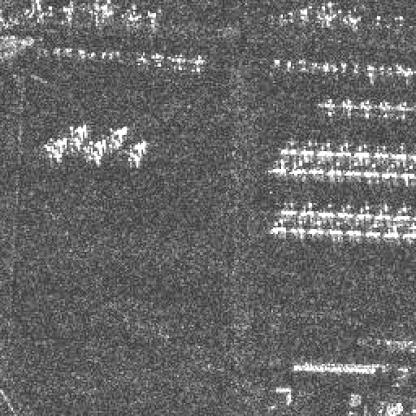airplane: (315, 96, 338, 120), (188, 52, 206, 73), (166, 52, 185, 70), (338, 99, 356, 117), (304, 219, 323, 236), (372, 145, 392, 161), (396, 99, 413, 117), (278, 140, 297, 156), (380, 224, 400, 239), (331, 141, 351, 156), (268, 218, 286, 234), (278, 202, 296, 218), (364, 161, 380, 179), (148, 50, 167, 65), (362, 223, 382, 237), (390, 145, 406, 162), (325, 221, 343, 236), (359, 99, 374, 117), (298, 202, 314, 218), (317, 202, 333, 218), (335, 203, 351, 219), (354, 203, 370, 219), (291, 160, 307, 176), (382, 162, 398, 178), (317, 143, 333, 159), (377, 101, 393, 117), (393, 206, 410, 221), (351, 145, 369, 159), (288, 221, 304, 236), (309, 159, 325, 174), (299, 143, 315, 158), (134, 50, 150, 65), (344, 163, 361, 177), (273, 159, 288, 174), (374, 205, 390, 219), (327, 162, 343, 176), (344, 223, 361, 236), (402, 164, 414, 180), (402, 224, 414, 239), (296, 58, 307, 70), (309, 60, 320, 72), (385, 65, 395, 76), (271, 57, 281, 67), (393, 63, 403, 73), (403, 66, 413, 76), (322, 60, 330, 72), (330, 60, 338, 72), (366, 64, 374, 76), (338, 61, 346, 72), (377, 65, 385, 76), (284, 60, 292, 70), (410, 146, 414, 162), (351, 63, 357, 73), (412, 206, 414, 223)
